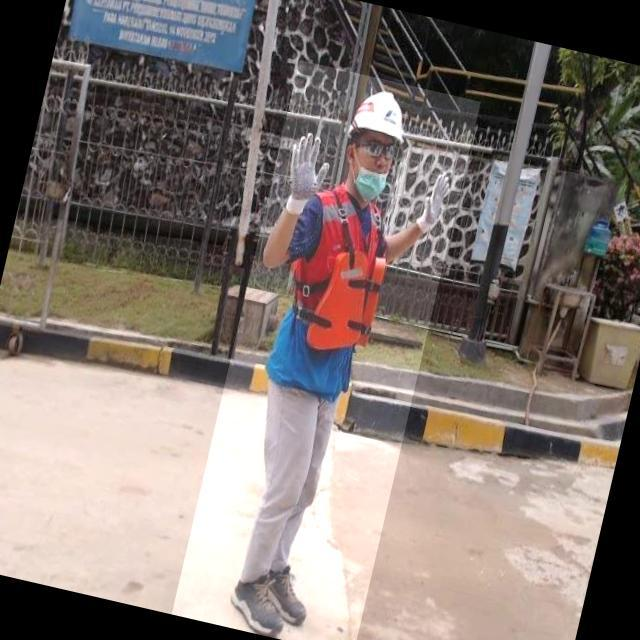Gloves: (279, 122, 335, 220), (413, 167, 464, 249)
Helmet: (347, 84, 413, 143)
Person: (213, 55, 472, 640)
Safety Boot: (225, 568, 294, 639), (256, 561, 316, 627)
Safety Vest: (263, 176, 405, 401)
